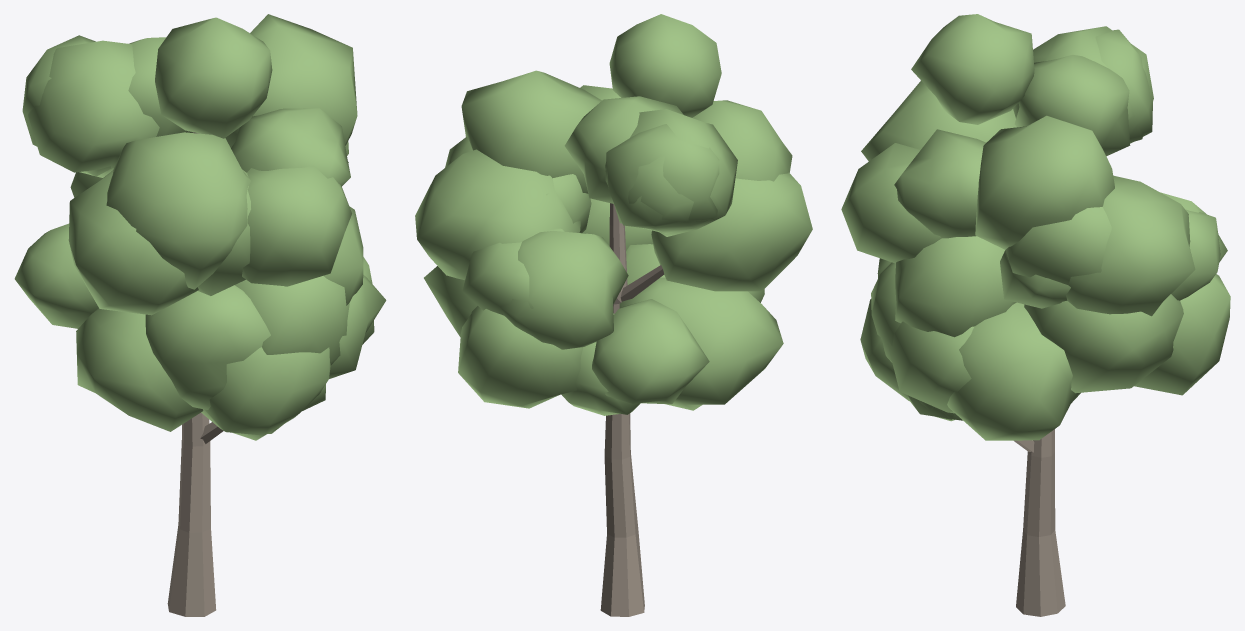
Rendered from Blender_SugarMaple_2.glb.
3 renders of one model, left to right at view 1: azimuth 30°, elevation 25°; view 2: azimuth 150°, elevation 25°; view 3: azimuth 270°, elevation 25°, orthographic. The views are drawn at different scales.
Parts seen in each view (by area): view 1: Blender_SugarMaple_2; view 2: Blender_SugarMaple_2; view 3: Blender_SugarMaple_2.
Boxes of the visible parts, bbox=[...] form: Blender_SugarMaple_2: bbox=[14, 14, 386, 616]; Blender_SugarMaple_2: bbox=[415, 14, 812, 616]; Blender_SugarMaple_2: bbox=[841, 14, 1230, 616].
Size of the model in its own units: 11.07 by 19.88 by 11.9.
